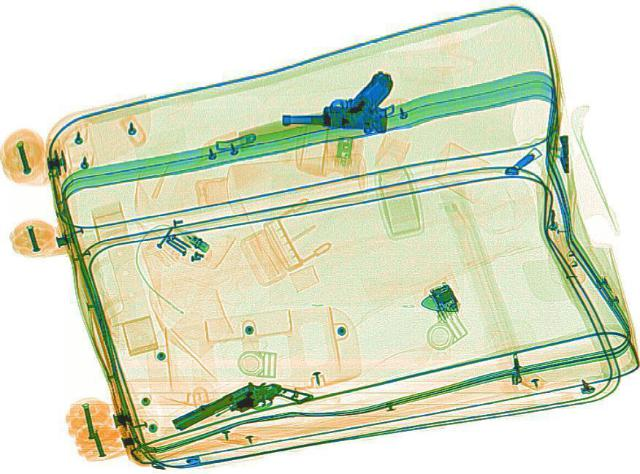Gun: (165, 364, 312, 448), (277, 64, 393, 133)
